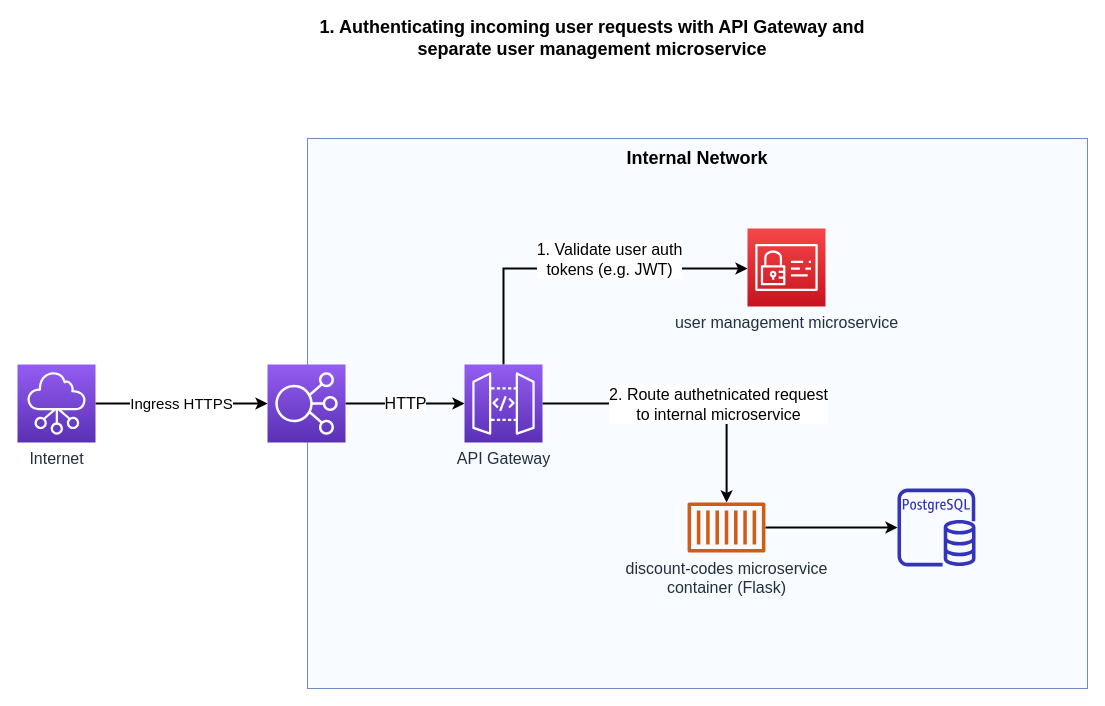
The diagram is 1105 pixels wide and 706 high, and some of its shapes have lost their labels. Here are the shapes that lost their labels. From the top down, the centre of each, then its label:
(x=306, y=403): LB
(x=936, y=527): discount-codes microservice DB
